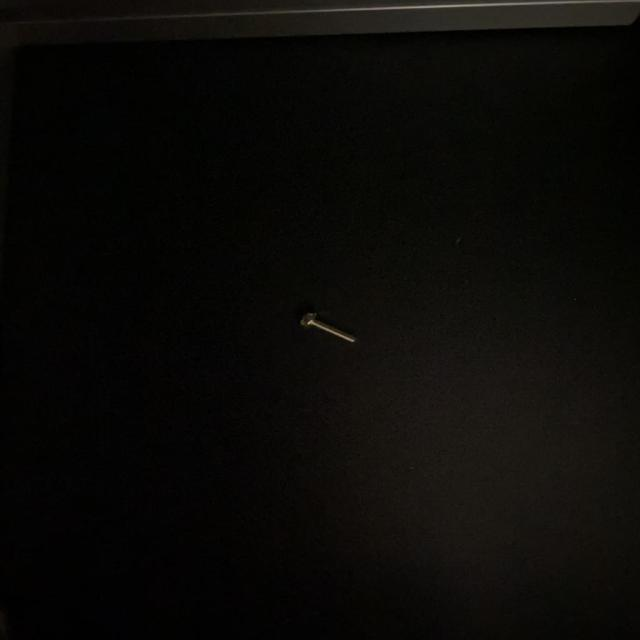Dry: (289, 306, 362, 346)
